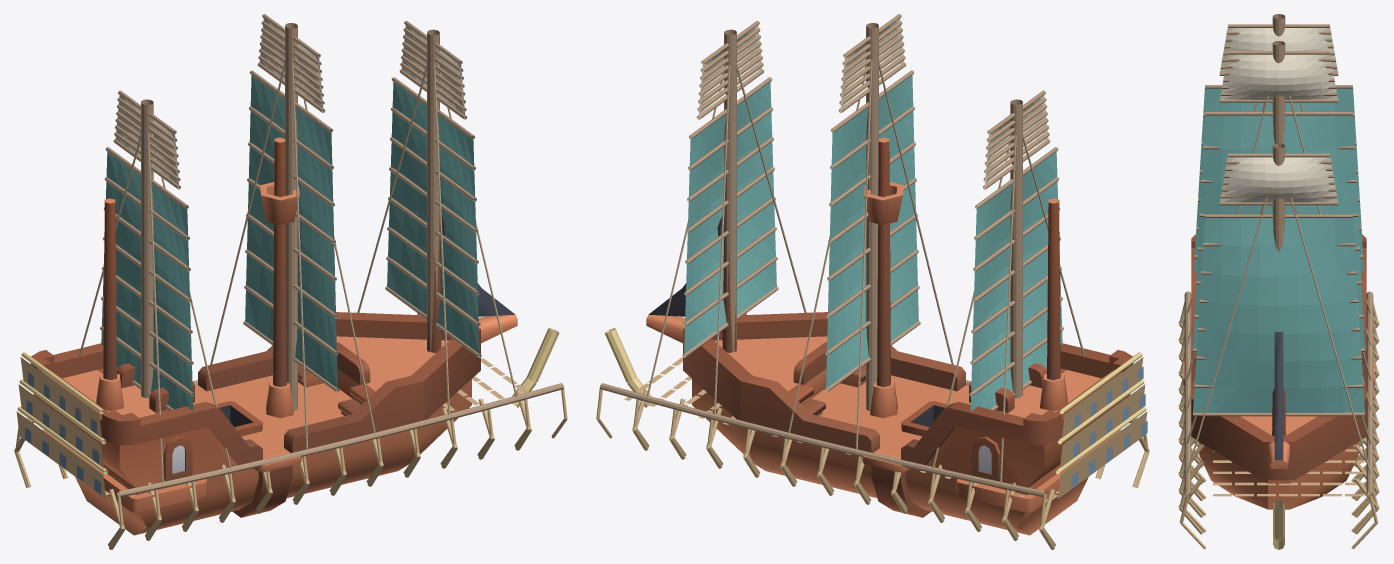
The model's file is treasure_ship-custom.glb.
3 views of the same model, side by side, from view 1: azimuth 30°, elevation 25°; view 2: azimuth 150°, elevation 25°; view 3: azimuth 270°, elevation 25° (orthographic). The views are drawn at different scales.
Visible parts, largest first — view 1: treasure_ship-custom-geometry, ship-pirate-large; view 2: treasure_ship-custom-geometry, ship-pirate-large; view 3: treasure_ship-custom-geometry, ship-pirate-large.
Part boxes in pixels (<box>): treasure_ship-custom-geometry: <box>14,14,567,549</box>; ship-pirate-large: <box>30,137,517,535</box>; treasure_ship-custom-geometry: <box>596,14,1149,549</box>; ship-pirate-large: <box>646,137,1133,535</box>; treasure_ship-custom-geometry: <box>1178,14,1379,549</box>; ship-pirate-large: <box>1183,234,1374,509</box>.
Size of the model in its own units: 50.56 by 44 by 19.
9 materials, 1 textured.
